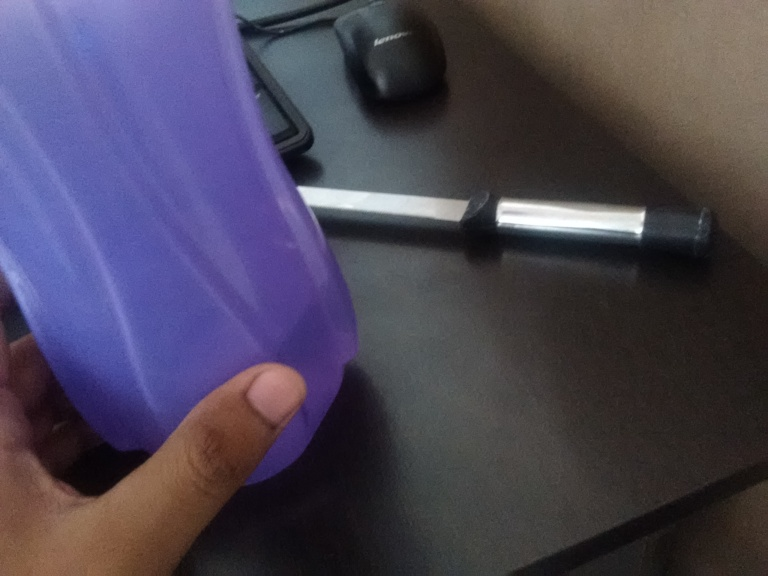knife: (312, 182, 715, 259)
